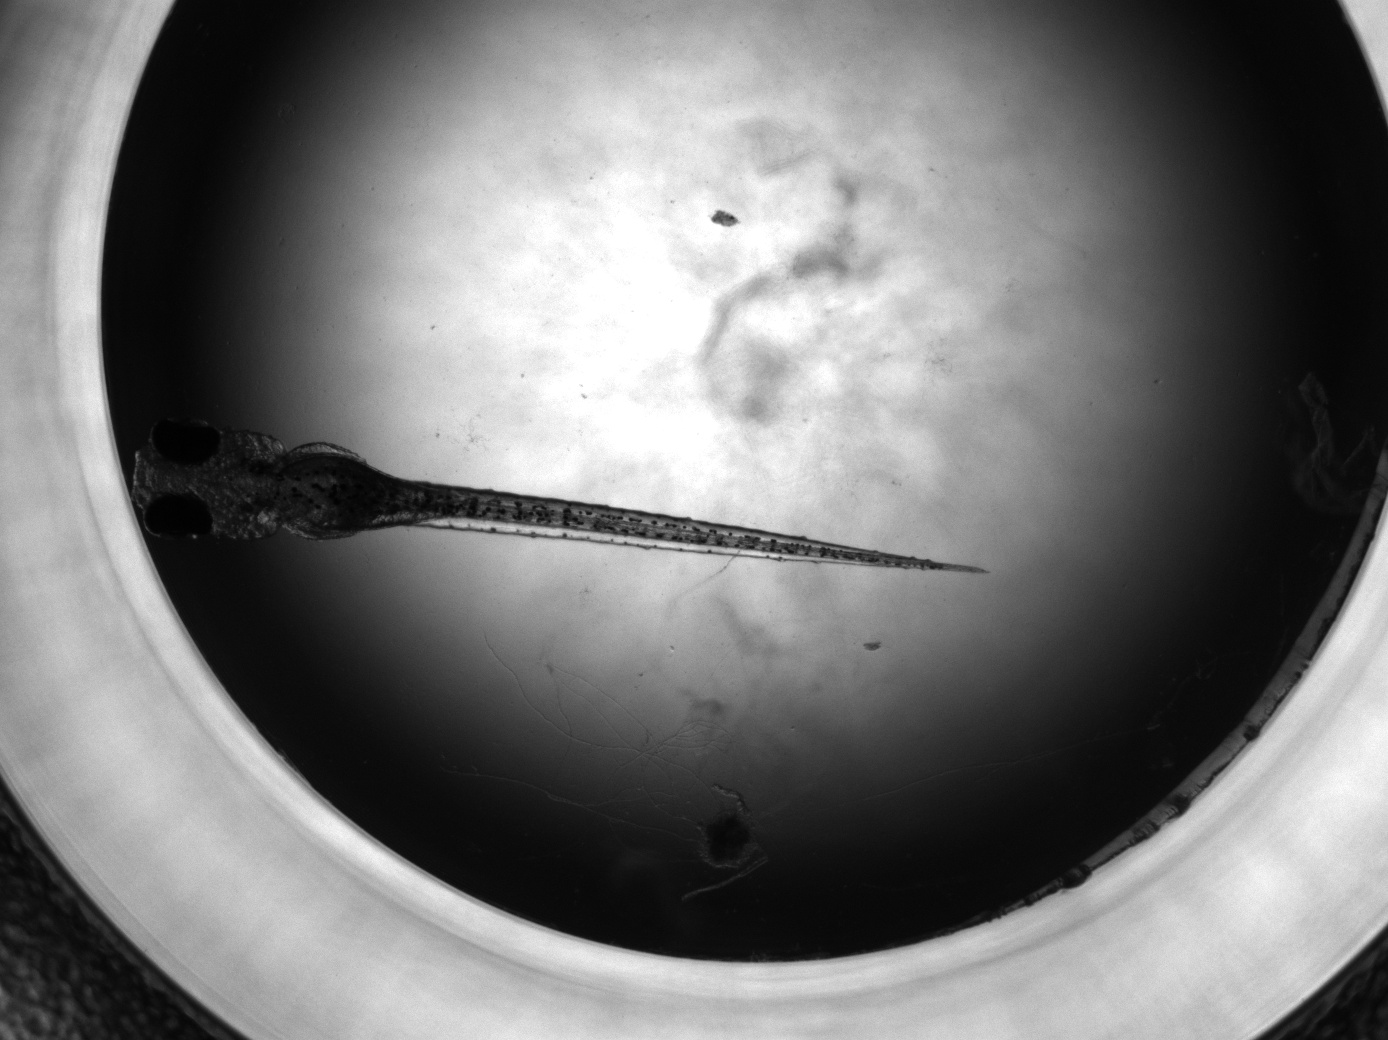debris: (672, 782, 772, 905)
embryo: (132, 415, 994, 578)
eye: (150, 415, 222, 469), (142, 491, 214, 543)
yolksac: (275, 442, 428, 539)
